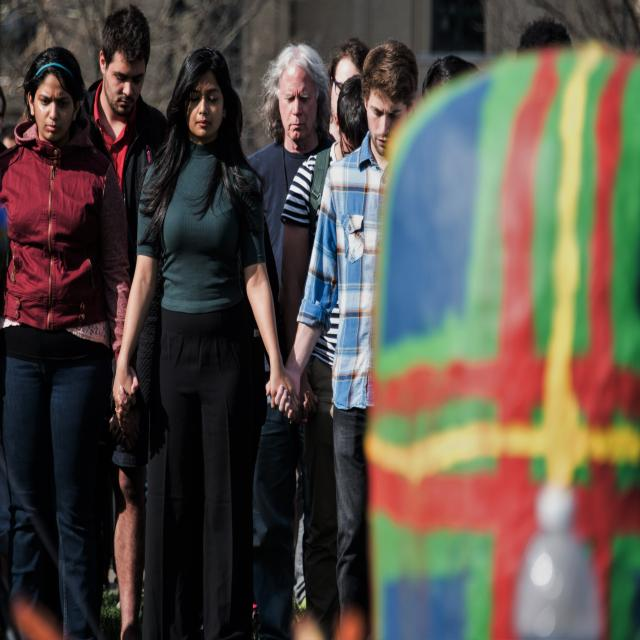body: (106, 50, 285, 640), (258, 31, 431, 640), (0, 42, 143, 640), (186, 70, 308, 640), (240, 41, 340, 640), (82, 4, 174, 640), (278, 73, 369, 639), (240, 172, 319, 640), (419, 4, 640, 92), (0, 85, 20, 362), (324, 34, 371, 146), (232, 86, 248, 151)
